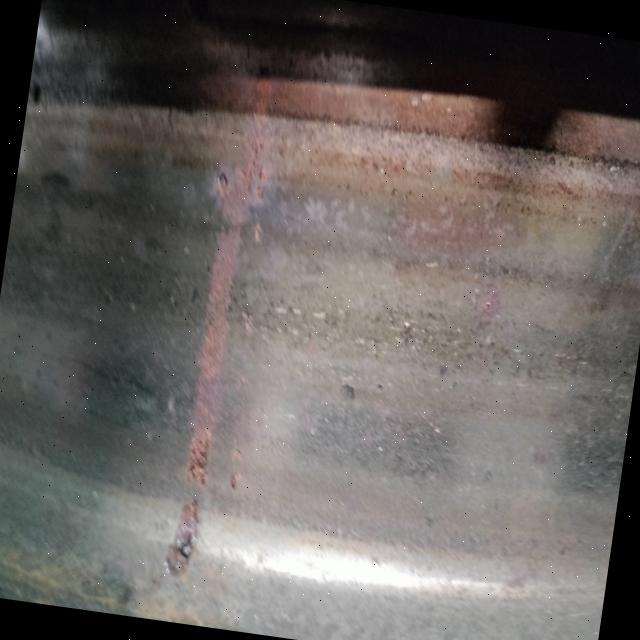Contact_Fatigue_Cracks: (366, 298, 602, 386)
